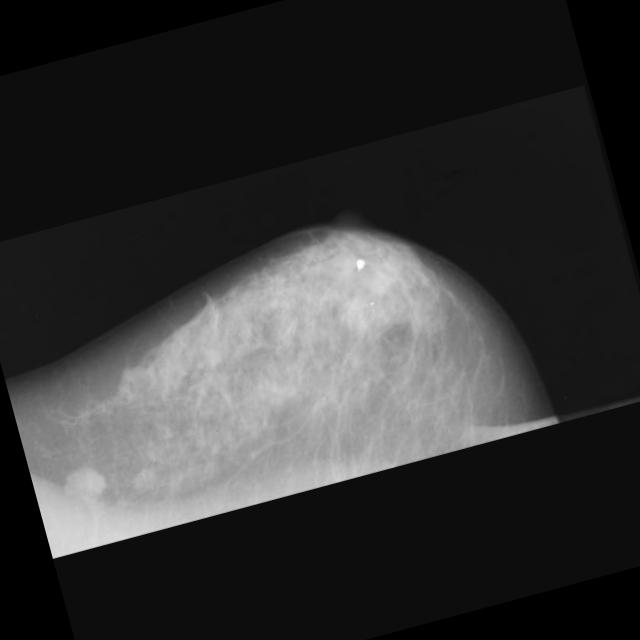CIRC: (28, 429, 138, 539)
